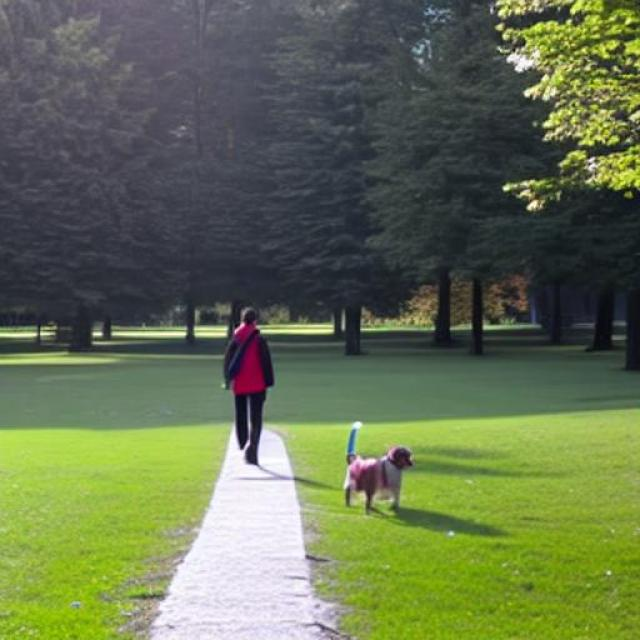Unleashed_Dog: (234, 372, 416, 517)
